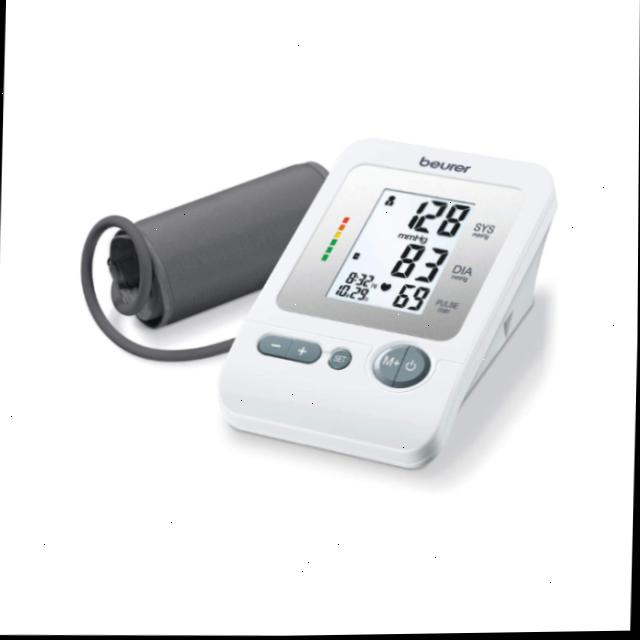dia: (383, 235, 453, 291)
pul: (382, 275, 437, 320)
ssd: (328, 165, 476, 338)
sys: (399, 191, 473, 246)
